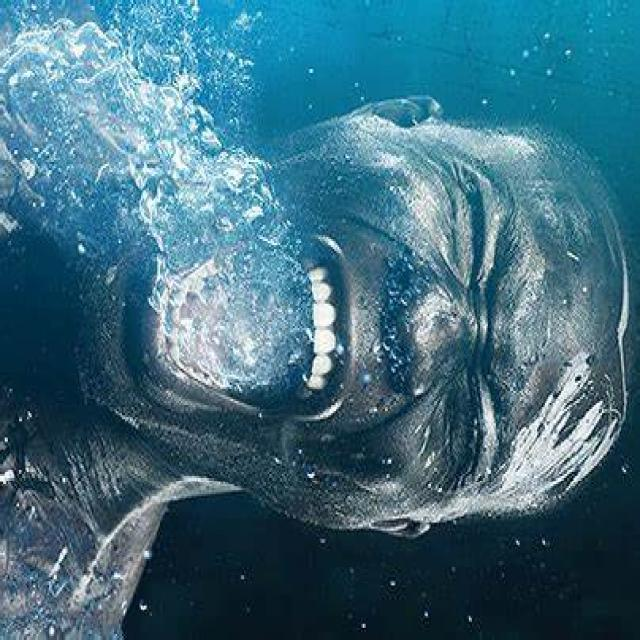drowning: (56, 61, 632, 578)
